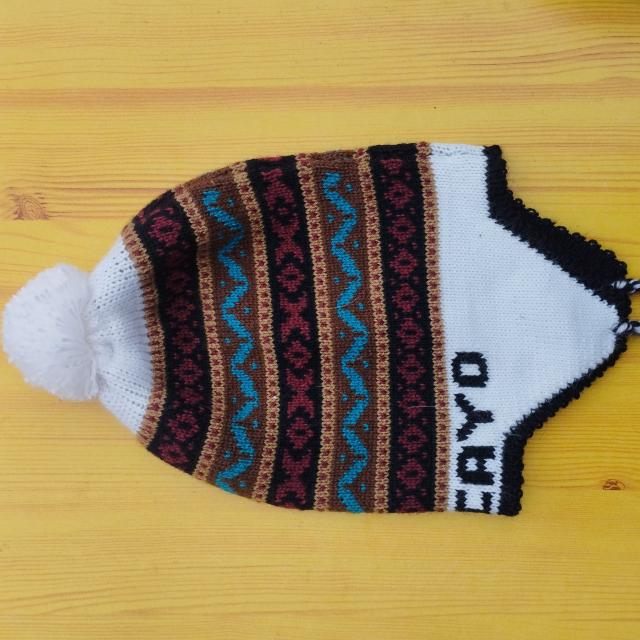Gorro: (2, 140, 638, 517)
